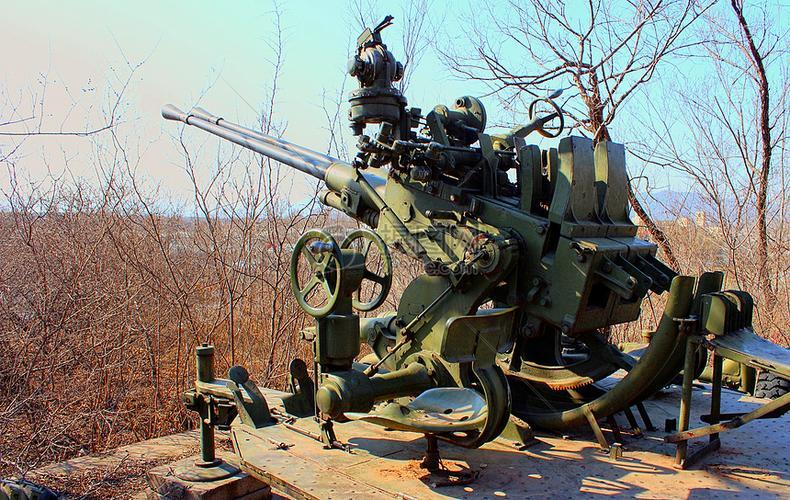MIL_SPG: (162, 37, 739, 468)
